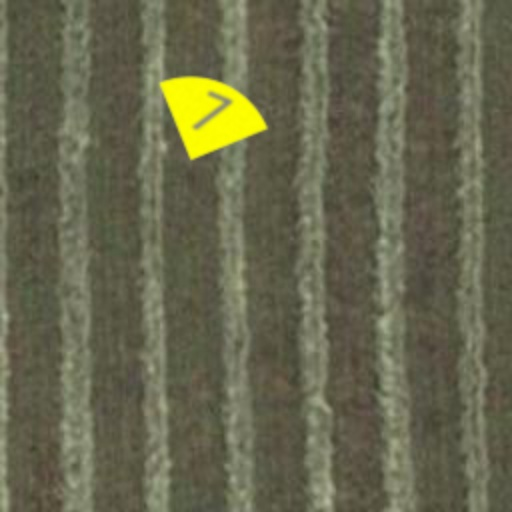quarter_circle: (136, 40, 284, 188)
